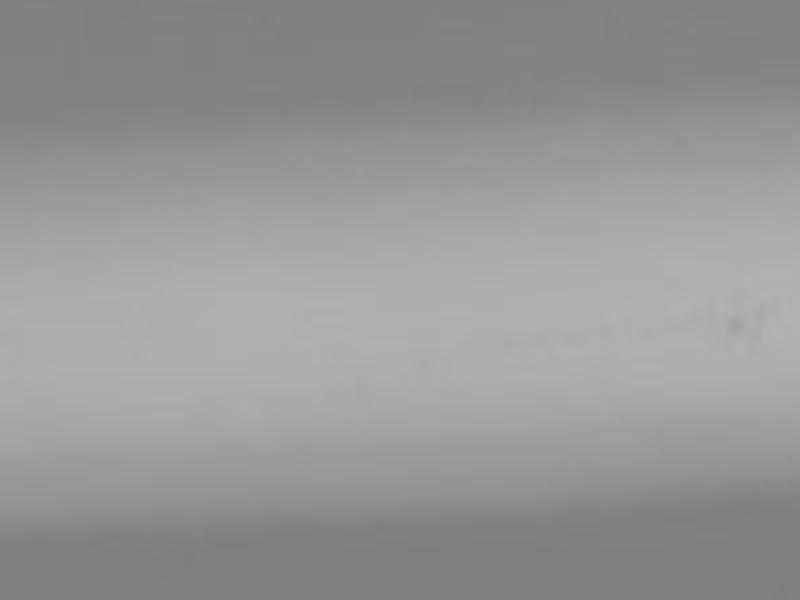defect: (724, 309, 747, 331)
